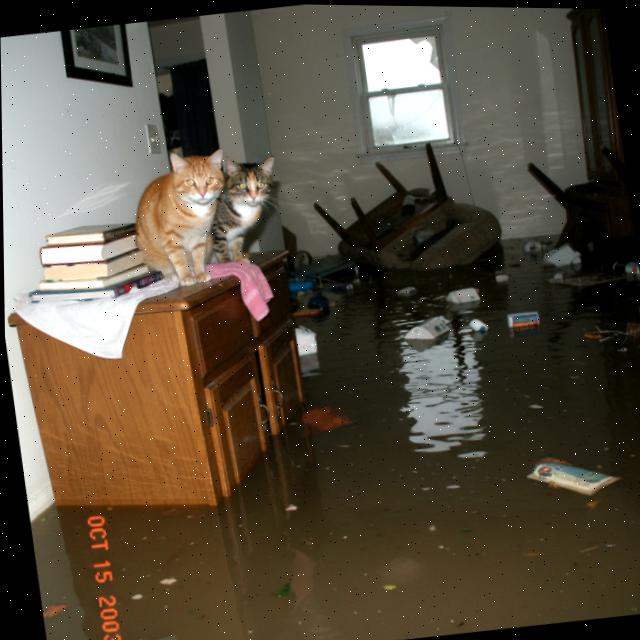cat: (122, 141, 252, 300), (186, 145, 293, 275)
